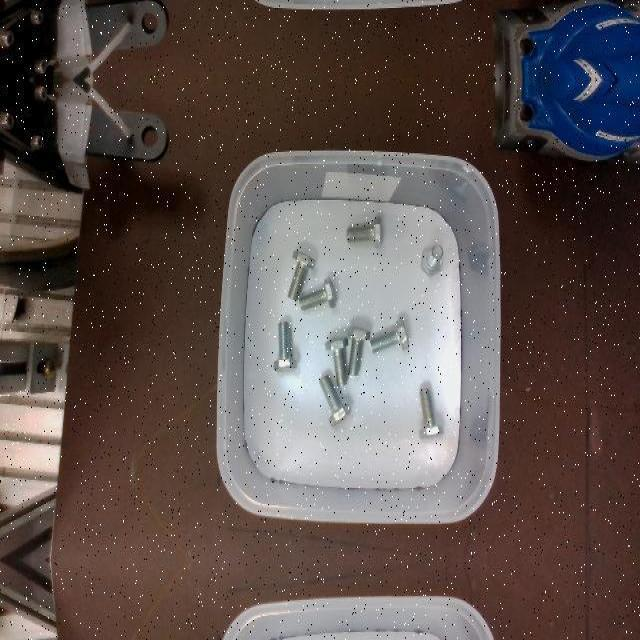screw: (317, 374, 351, 426), (288, 249, 315, 301), (369, 319, 410, 353), (297, 276, 337, 310), (273, 320, 298, 374), (419, 385, 444, 439), (324, 336, 349, 388), (346, 215, 383, 249), (348, 325, 371, 375), (422, 243, 443, 277)
